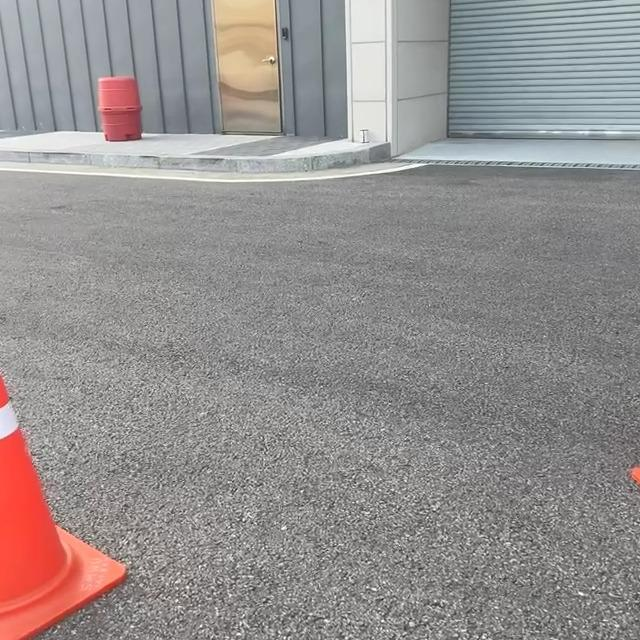fallen_object: (0, 269, 185, 640)
